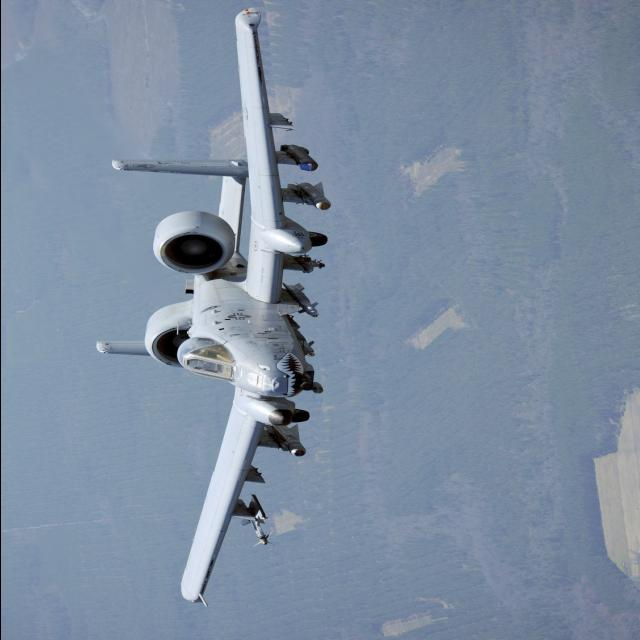A10: (46, 1, 464, 612)
